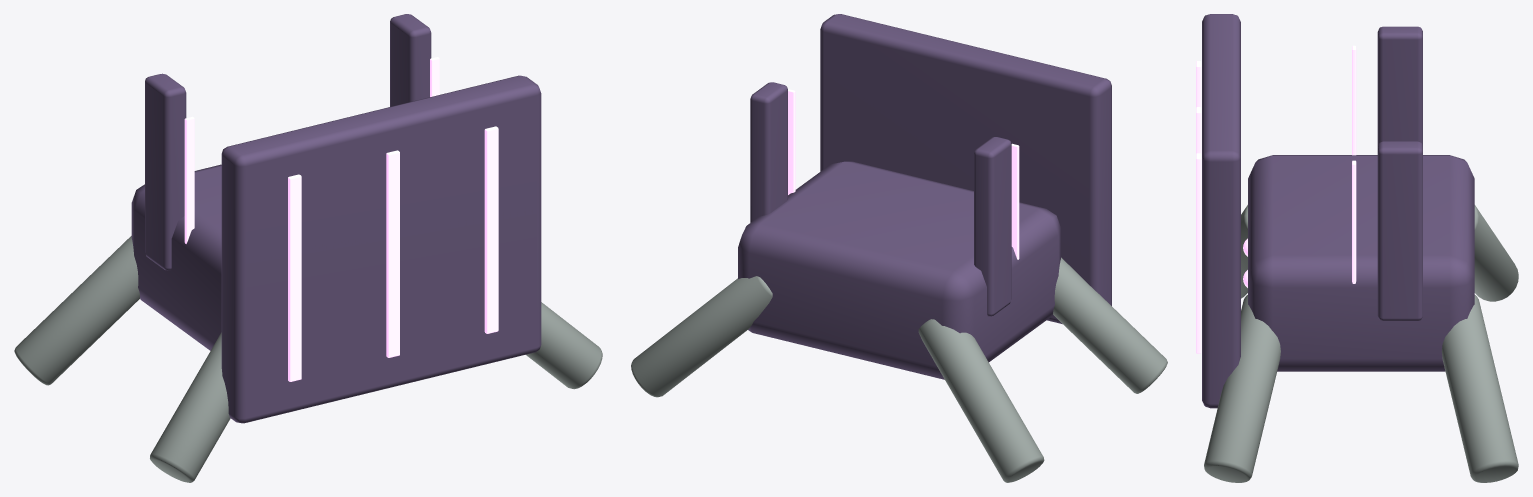
Rendered from card_p4_tank.glb.
3 views of the same model, side by side, from view 1: azimuth 30°, elevation 25°; view 2: azimuth 150°, elevation 25°; view 3: azimuth 270°, elevation 25° (orthographic). The views are drawn at different scales.
Parts seen in each view (by area): view 1: card_p4_tank; view 2: card_p4_tank; view 3: card_p4_tank.
Boxes of the visible parts, x1=… form: card_p4_tank: x1=14, y1=14, x2=602, y2=482; card_p4_tank: x1=631, y1=14, x2=1167, y2=482; card_p4_tank: x1=1196, y1=14, x2=1518, y2=482.
Size of the model in its own units: 2.4 by 1.66 by 1.57.
